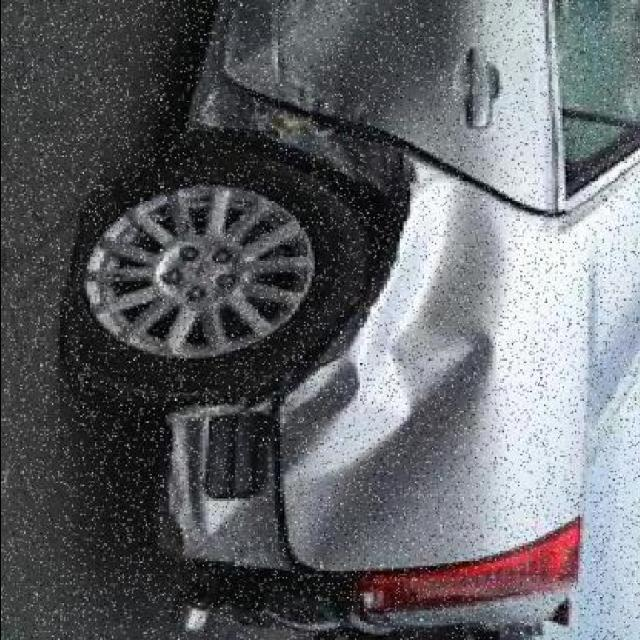doorouter-dent: (232, 0, 562, 121)
quaterpanel-dent: (268, 211, 568, 557), (217, 137, 413, 300)
